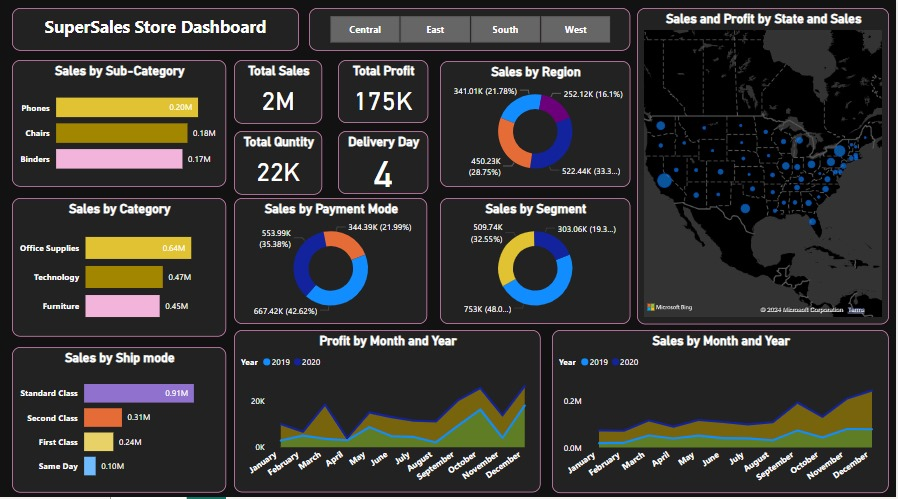

The page's visual inventory and layout, read from the dashboard file:
{"tool":"powerbi","page":{"name":"Page 1","canvas":[1280,720],"ordinal":0},"visuals":[{"type":"clusteredBarChart","title":"Sales by Category","fields":{"Y":["Sum(SuperStore_Sales_Dataset - SuperStore_Sales_Dataset.Sales)"],"Category":["SuperStore_Sales_Dataset - SuperStore_Sales_Dataset.Category"]},"box":[17,284.9,306.1,198.4],"z":0},{"type":"clusteredBarChart","title":"Sales by Sub-Category","fields":{"Y":["Sum(SuperStore_Sales_Dataset - SuperStore_Sales_Dataset.Sales)"],"Category":["SuperStore_Sales_Dataset - SuperStore_Sales_Dataset.Sub-Category"]},"box":[17,86.5,306.1,181.4],"z":1000},{"type":"stackedAreaChart","title":"Sales by Month and Year","fields":{"Y":["Sum(SuperStore_Sales_Dataset - SuperStore_Sales_Dataset.Sales)"],"Category":["SuperStore_Sales_Dataset - SuperStore_Sales_Dataset.Order Date.Variation.Date Hierarchy.Month"],"Series":["SuperStore_Sales_Dataset - SuperStore_Sales_Dataset.Order Date.Variation.Date Hierarchy.Year"]},"box":[788.6,472.9,481.4,232.9],"z":2000},{"type":"clusteredBarChart","title":"Sales by Ship mode","fields":{"Y":["Sum(SuperStore_Sales_Dataset - SuperStore_Sales_Dataset.Sales)"],"Category":["SuperStore_Sales_Dataset - SuperStore_Sales_Dataset.Ship Mode"]},"box":[17,497.5,306.1,208.3],"z":3000},{"type":"stackedAreaChart","title":"Profit by Month and Year","fields":{"Category":["SuperStore_Sales_Dataset - SuperStore_Sales_Dataset.Order Date.Variation.Date Hierarchy.Month"],"Series":["SuperStore_Sales_Dataset - SuperStore_Sales_Dataset.Order Date.Variation.Date Hierarchy.Year"],"Y":["Sum(SuperStore_Sales_Dataset - SuperStore_Sales_Dataset.Profit)"]},"box":[334.5,473.4,438,232.4],"z":4000},{"type":"map","title":"Sales and Profit by State and Sales","fields":{"Category":["SuperStore_Sales_Dataset - SuperStore_Sales_Dataset.State"],"Size":["Sum(SuperStore_Sales_Dataset - SuperStore_Sales_Dataset.Sales)"]},"box":[909.9,12.8,360,452.1],"z":5000},{"type":"donutChart","title":"Sales by Segment","fields":{"Category":["SuperStore_Sales_Dataset - SuperStore_Sales_Dataset.Segment"],"Y":["Sum(SuperStore_Sales_Dataset - SuperStore_Sales_Dataset.Sales)"]},"box":[627.9,284.9,272.1,180],"z":6000},{"type":"donutChart","title":"Sales by Payment Mode","fields":{"Y":["Sum(SuperStore_Sales_Dataset - SuperStore_Sales_Dataset.Sales)"],"Category":["SuperStore_Sales_Dataset - SuperStore_Sales_Dataset.Payment Mode"]},"box":[334.5,284.9,276.4,180],"z":7000},{"type":"textbox","box":[17,12.8,409.6,60.9],"z":8000},{"type":"slicer","fields":{"Values":["SuperStore_Sales_Dataset - SuperStore_Sales_Dataset.Region"]},"box":[440.8,12.8,459.2,60.9],"z":9000},{"type":"card","title":"Total Sales","fields":{"Values":["Sum(SuperStore_Sales_Dataset - SuperStore_Sales_Dataset.Sales)"]},"box":[334.5,86.5,126.1,90.7],"z":10000},{"type":"card","title":"Total Profit","fields":{"Values":["Sum(SuperStore_Sales_Dataset - SuperStore_Sales_Dataset.Profit)"]},"box":[482.9,87.1,128.6,90],"z":11000},{"type":"card","title":"Total Quntity","fields":{"Values":["Sum(SuperStore_Sales_Dataset - SuperStore_Sales_Dataset.Quantity)"]},"box":[334.5,188.5,126.1,90.7],"z":12000},{"type":"card","title":"Delivery Day","fields":{"Values":["Avg(SuperStore_Sales_Dataset - SuperStore_Sales_Dataset.avg_delivery)"]},"box":[482.9,188.6,128.6,90],"z":13000},{"type":"donutChart","title":"Sales by Region","fields":{"Y":["Sum(SuperStore_Sales_Dataset - SuperStore_Sales_Dataset.Sales)"],"Category":["SuperStore_Sales_Dataset - SuperStore_Sales_Dataset.Region"]},"box":[627.9,87.9,272.1,180],"z":14000}]}

Visuals, with their boxes in screenshot pixels (x1, y1, x2, y2), scaled from the page's 1280x720 canvas onto the 898x499 screenshot:
"Sales by Category" clusteredBarChart: select_region(12, 197, 227, 335)
"Sales by Sub-Category" clusteredBarChart: select_region(12, 60, 227, 186)
"Sales by Month and Year" stackedAreaChart: select_region(553, 328, 891, 489)
"Sales by Ship mode" clusteredBarChart: select_region(12, 345, 227, 489)
"Profit by Month and Year" stackedAreaChart: select_region(235, 328, 542, 489)
"Sales and Profit by State and Sales" map: select_region(638, 9, 891, 322)
"Sales by Segment" donutChart: select_region(441, 197, 631, 322)
"Sales by Payment Mode" donutChart: select_region(235, 197, 429, 322)
textbox: select_region(12, 9, 299, 51)
slicer - SuperStore_Sales_Dataset - SuperStore_Sales_Dataset.Region: select_region(309, 9, 631, 51)
"Total Sales" card: select_region(235, 60, 323, 123)
"Total Profit" card: select_region(339, 60, 429, 123)
"Total Quntity" card: select_region(235, 131, 323, 194)
"Delivery Day" card: select_region(339, 131, 429, 193)
"Sales by Region" donutChart: select_region(441, 61, 631, 186)
